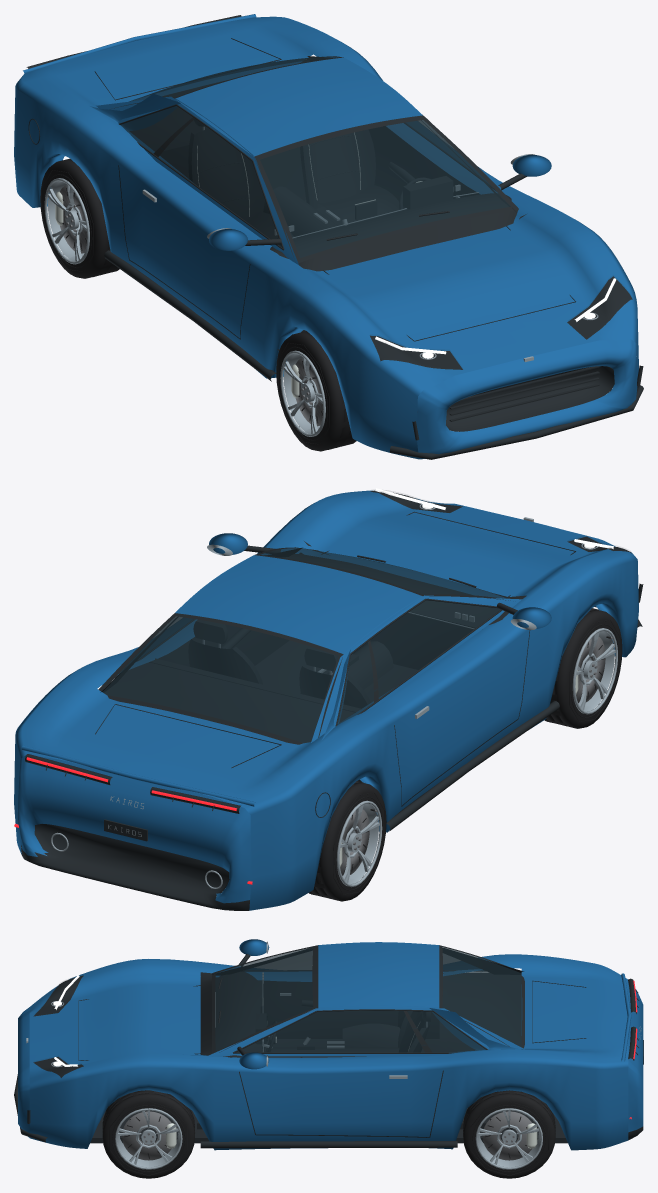
Rendered from velara-lod0.glb.
The picture shows the model from 3 angles, top to bottom: view 1: azimuth 30°, elevation 25°; view 2: azimuth 150°, elevation 25°; view 3: azimuth 270°, elevation 25°; orthographic projection. The views are drawn at different scales.
Visible parts, largest first — view 1: sculpted-coachwork_merged, carbon-rear-valance_merged, panoramic-windscreen_merged, profiled-tire_merged (×2), rim-barrel_merged (×2), wheel-valve-cap_merged (×2), door-release_merged; view 2: sculpted-coachwork_merged, carbon-rear-valance_merged, panoramic-windscreen_merged, profiled-tire_merged (×2), rim-barrel_merged (×2), wheel-valve-cap_merged (×2), door-release_merged, rear-light-guide_merged; view 3: sculpted-coachwork_merged, carbon-rear-valance_merged, panoramic-windscreen_merged, profiled-tire_merged (×2), rim-barrel_merged (×2), wheel-valve-cap_merged (×2), door-release_merged.
Part boxes in pixels (left/top/right/bottom): sculpted-coachwork_merged: left=14, top=14, right=638, bottom=459; carbon-rear-valance_merged: left=26, top=15, right=643, bottom=459; panoramic-windscreen_merged: left=120, top=56, right=510, bottom=257; profiled-tire_merged (×2): left=40, top=158, right=356, bottom=451; rim-barrel_merged (×2): left=44, top=178, right=325, bottom=436; wheel-valve-cap_merged (×2): left=60, top=185, right=323, bottom=426; door-release_merged: left=142, top=127, right=598, bottom=362; sculpted-coachwork_merged: left=14, top=490, right=638, bottom=910; carbon-rear-valance_merged: left=21, top=490, right=643, bottom=910; panoramic-windscreen_merged: left=102, top=548, right=506, bottom=742; profiled-tire_merged (×2): left=309, top=608, right=622, bottom=901; rim-barrel_merged (×2): left=336, top=628, right=617, bottom=887; wheel-valve-cap_merged (×2): left=340, top=636, right=612, bottom=875; door-release_merged: left=51, top=502, right=598, bottom=888; rear-light-guide_merged: left=14, top=757, right=252, bottom=884; sculpted-coachwork_merged: left=18, top=939, right=643, bottom=1150; carbon-rear-valance_merged: left=14, top=945, right=643, bottom=1148; panoramic-windscreen_merged: left=215, top=947, right=522, bottom=1052; profiled-tire_merged (×2): left=102, top=1090, right=555, bottom=1178; rim-barrel_merged (×2): left=115, top=1108, right=542, bottom=1169; wheel-valve-cap_merged (×2): left=122, top=1111, right=531, bottom=1160; door-release_merged: left=26, top=941, right=641, bottom=1078.
Size of what is drawn, in the model's own units: 2.19 by 1.27 by 4.63.
